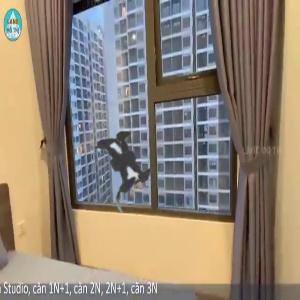drone: (51, 85, 198, 232)
